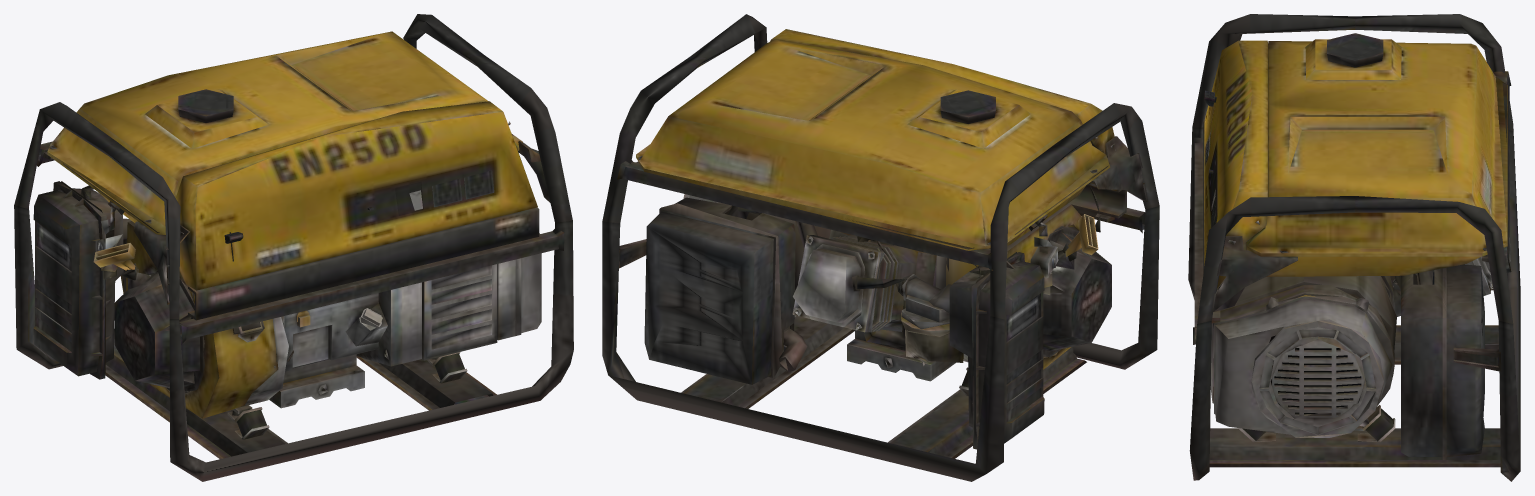
File: generator-portable.4e4eb229.glb
3 views of the same model, side by side, from view 1: azimuth 30°, elevation 25°; view 2: azimuth 150°, elevation 25°; view 3: azimuth 270°, elevation 25° (orthographic).
Visible parts, largest first — view 1: model; view 2: model; view 3: model.
Boxes of the visible parts, x1,y1,x2,y2 form: model: (14,14,573,481); model: (602,14,1159,481); model: (1188,14,1520,481).
Bounding box in the file's own units: 0.8166 × 0.5752 × 0.5615.
2 materials, 2 textured.
